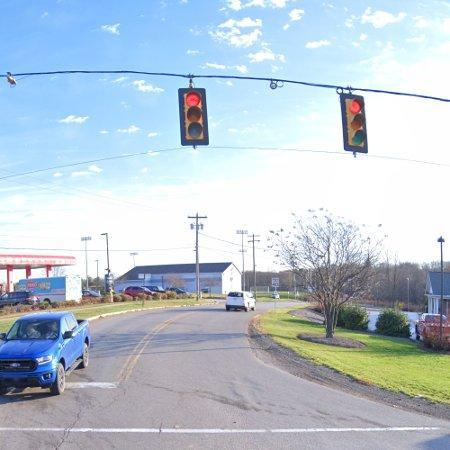traffic lights: (178, 86, 211, 147), (342, 93, 369, 155)
